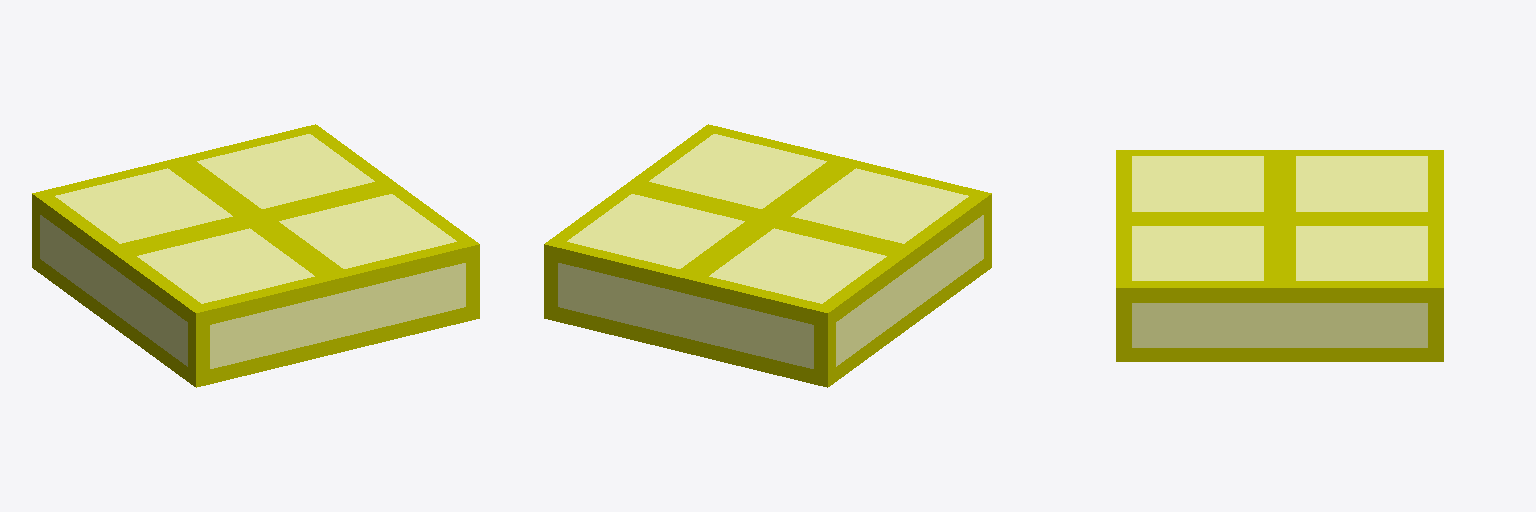
The picture shows the model from 3 angles: view 1: azimuth 30°, elevation 25°; view 2: azimuth 150°, elevation 25°; view 3: azimuth 270°, elevation 25°; orthographic projection.
Visible parts, largest first — view 1: object 1; view 2: object 1; view 3: object 1.
Boxes of the visible parts, box(x1,y1,x2,y2) form: object 1: box(32, 124, 479, 387); object 1: box(544, 124, 991, 387); object 1: box(1116, 150, 1443, 361).
Bounding box in the file's own units: 2 × 0.5 × 2.
1 materials, 1 textured.